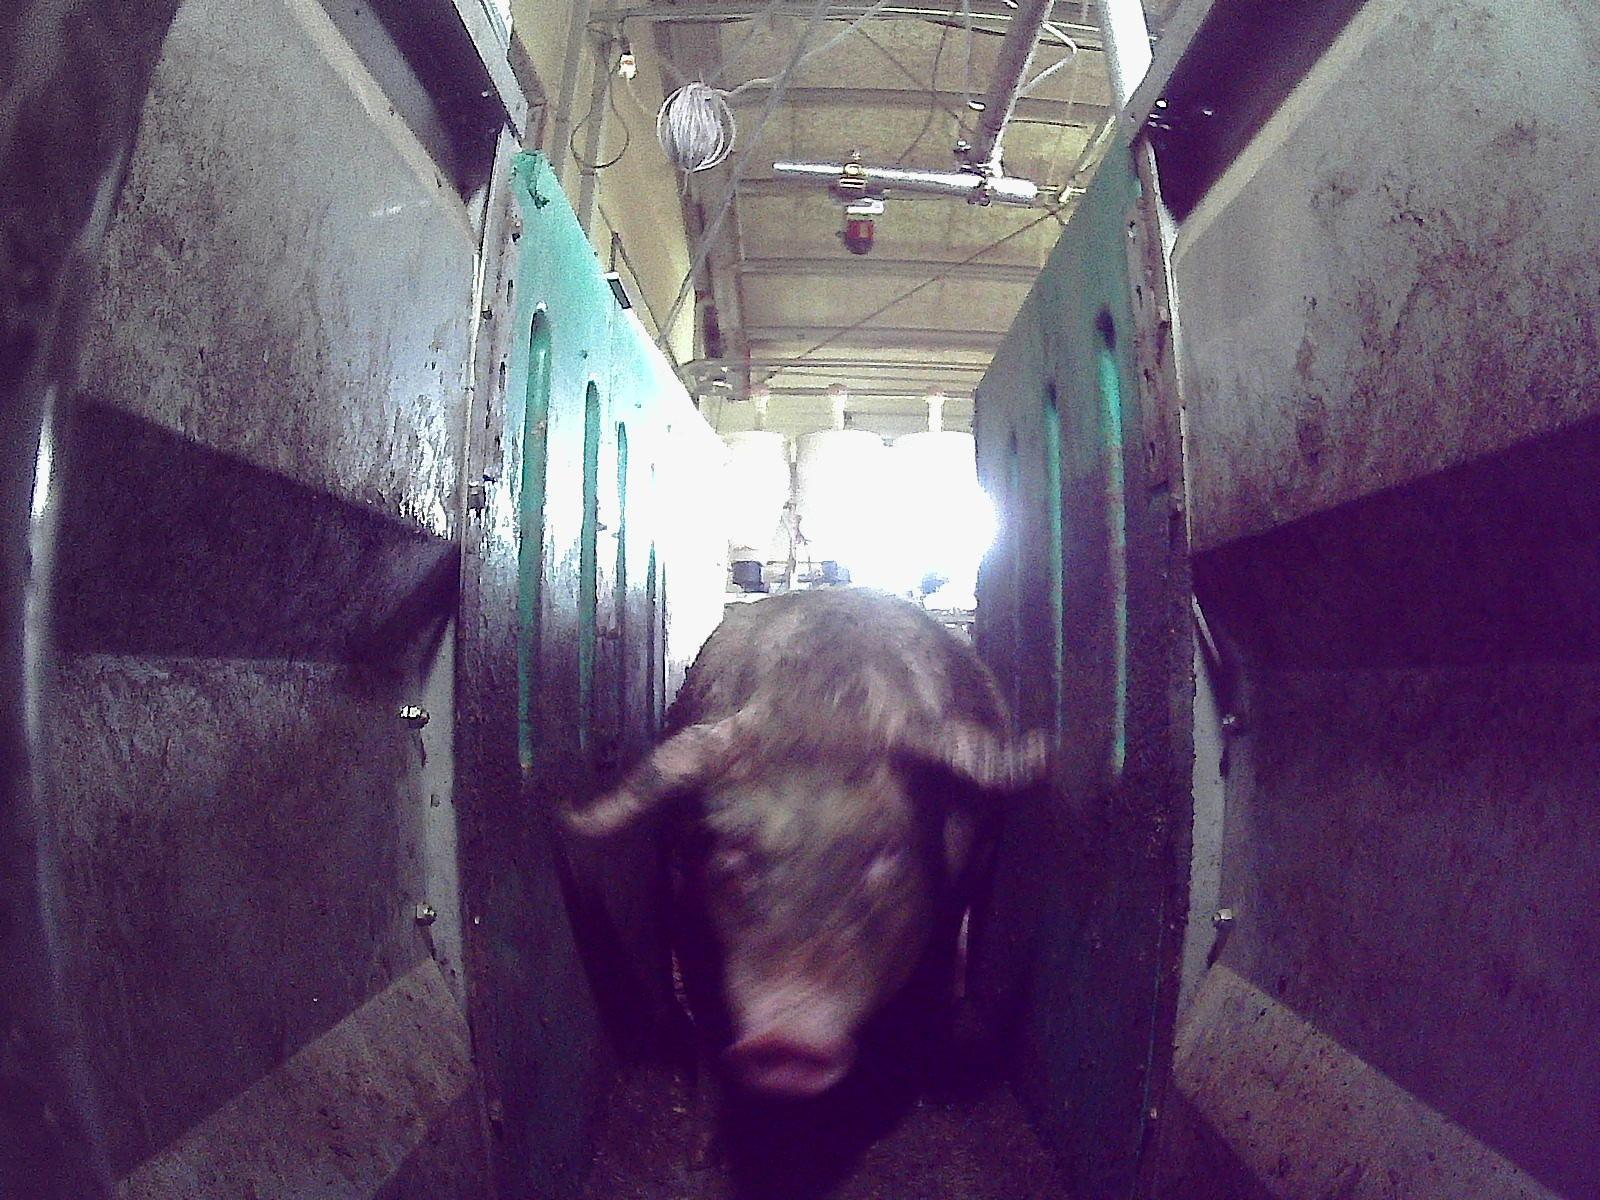Face: (696, 738, 941, 1095)
